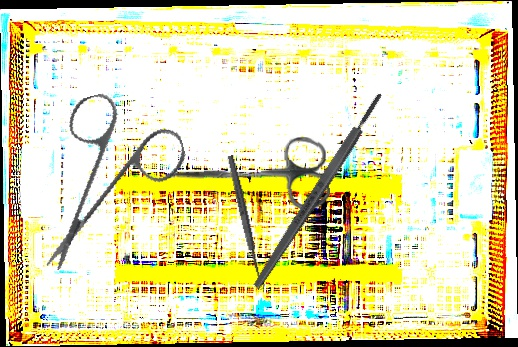Iris Scissors: (7, 76, 206, 273), (163, 135, 331, 215)
Scalpel Handle: (249, 89, 388, 292)
Surgical Spoon: (225, 154, 266, 290)
